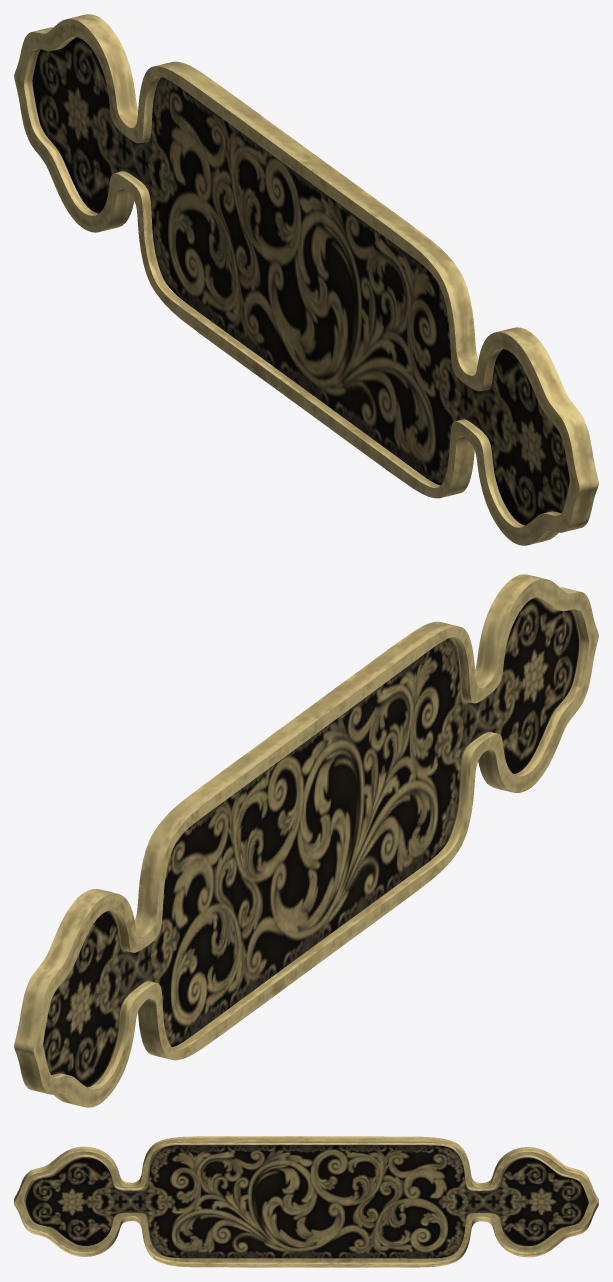
The model's file is SM_MetalPanel_04.fbx.
3 views of the same model, one above another, from view 1: azimuth 30°, elevation 25°; view 2: azimuth 150°, elevation 25°; view 3: azimuth 270°, elevation 25° (orthographic). The views are drawn at different scales.
Visible parts, largest first — view 1: SM_MetalPanel_04_LOD0; view 2: SM_MetalPanel_04_LOD0; view 3: SM_MetalPanel_04_LOD0.
Boxes of the visible parts, x1,y1,x2,y2 form: SM_MetalPanel_04_LOD0: (14,14,598,545); SM_MetalPanel_04_LOD0: (14,574,598,1107); SM_MetalPanel_04_LOD0: (14,1136,598,1267).
Size of the model in its own units: 1.57 by 79.65 by 19.01.
